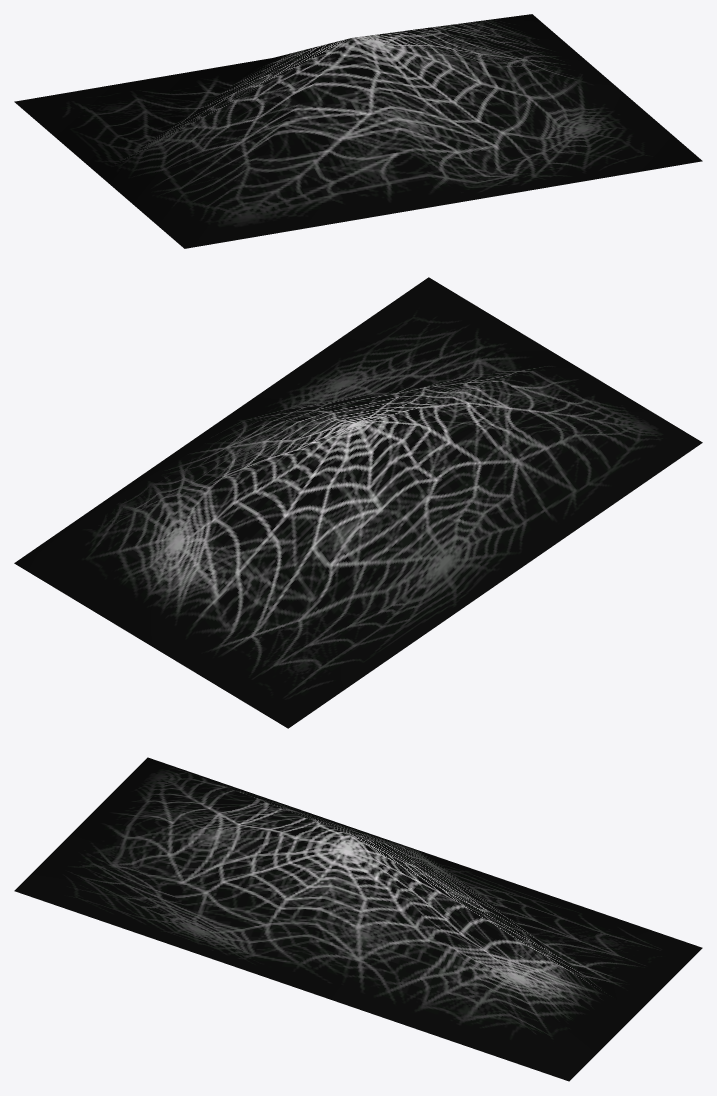
The model's file is MIRKWOOD_PLANE25.fbx.
The picture shows the model from 3 angles, top to bottom: view 1: azimuth 30°, elevation 25°; view 2: azimuth 150°, elevation 25°; view 3: azimuth 270°, elevation 25°; orthographic projection. The views are drawn at different scales.
Parts seen in each view (by area): view 1: MIRKWOOD_PLANE25; view 2: MIRKWOOD_PLANE25; view 3: MIRKWOOD_PLANE25.
Part boxes in pixels (bbox=[...]): MIRKWOOD_PLANE25: bbox=[14, 14, 702, 248]; MIRKWOOD_PLANE25: bbox=[14, 277, 702, 728]; MIRKWOOD_PLANE25: bbox=[14, 757, 702, 1081].
Bounding box in the file's own units: 164024 × 50696 × 201080.
Materials: 1 (1 with a texture image).
